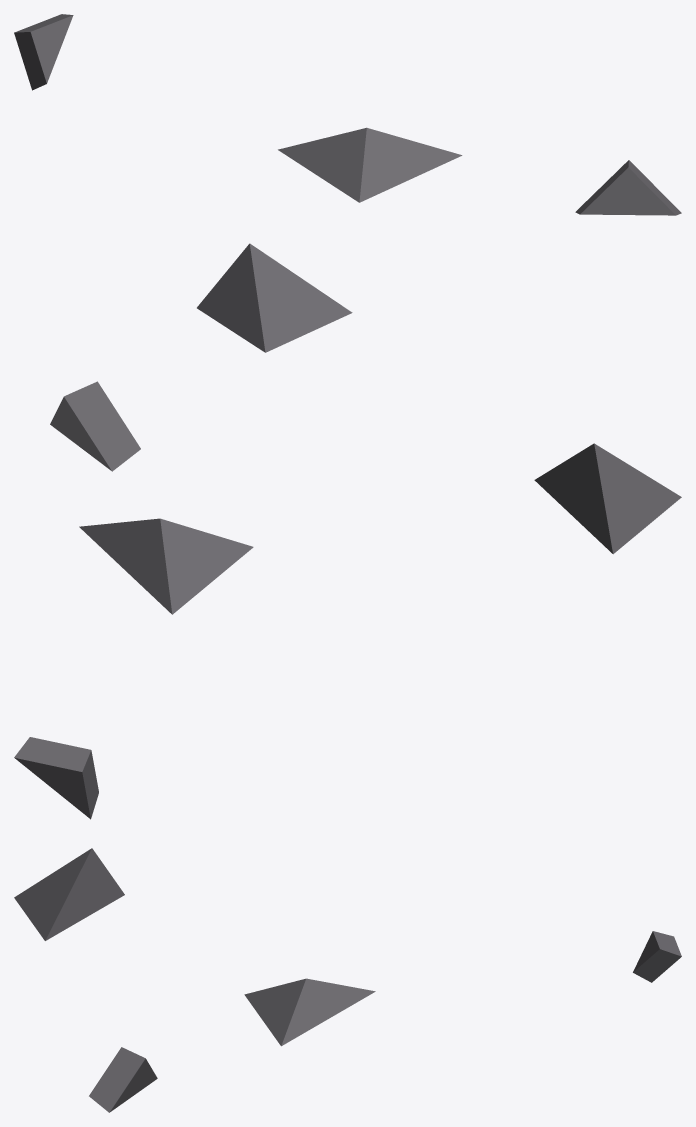
The model's file is Rocks_Sharp_s_03.fbx.
3 renders of one model, top to bottom at view 1: azimuth 30°, elevation 25°; view 2: azimuth 150°, elevation 25°; view 3: azimuth 270°, elevation 25°, orthographic. The views are drawn at different scales.
Parts seen in each view (by area): view 1: Rocks_Sharp_s_03; view 2: Rocks_Sharp_s_03; view 3: Rocks_Sharp_s_03.
Part boxes in pixels (x1=…): Rocks_Sharp_s_03: x1=14, y1=14, x2=681, y2=352; Rocks_Sharp_s_03: x1=14, y1=381, x2=681, y2=819; Rocks_Sharp_s_03: x1=14, y1=848, x2=681, y2=1112.
Bounding box in the file's own units: 71.44 × 14.93 × 98.44.
